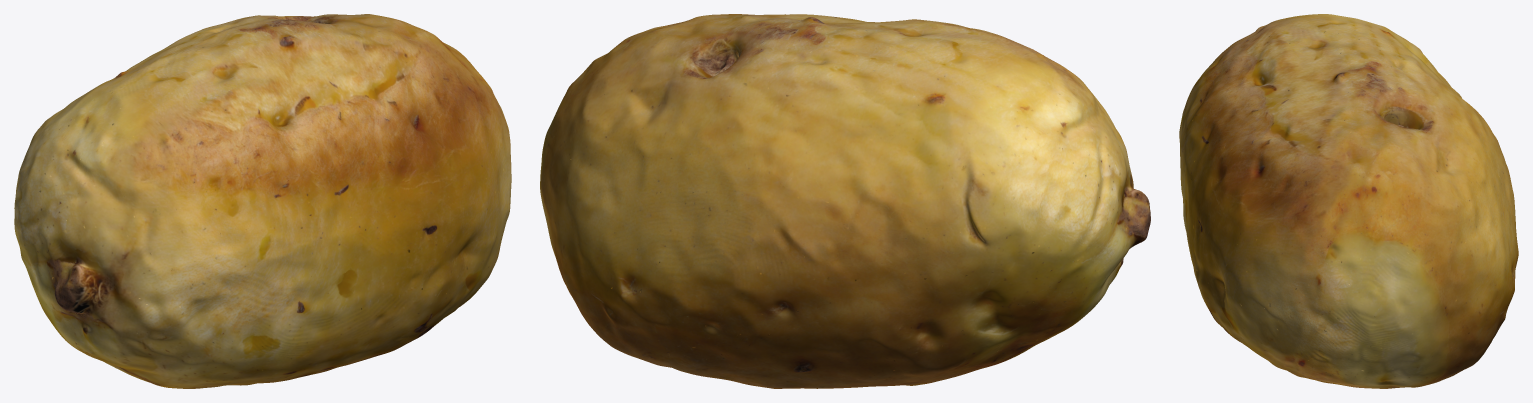
The model's file is Meshy_AI_じゃがいも_0131144400_texture.fbx.
The picture shows the model from 3 angles, left to right: view 1: azimuth 30°, elevation 25°; view 2: azimuth 150°, elevation 25°; view 3: azimuth 270°, elevation 25°; orthographic projection. The views are drawn at different scales.
Visible parts, largest first — view 1: Mesh_0; view 2: Mesh_0; view 3: Mesh_0.
Part boxes in pixels (x1,y1,x2,y2): Mesh_0: (14, 14, 511, 388); Mesh_0: (540, 14, 1150, 388); Mesh_0: (1179, 14, 1518, 388).
Size of the model in its own units: 200 by 121 by 138.
1 material, 1 textured.
